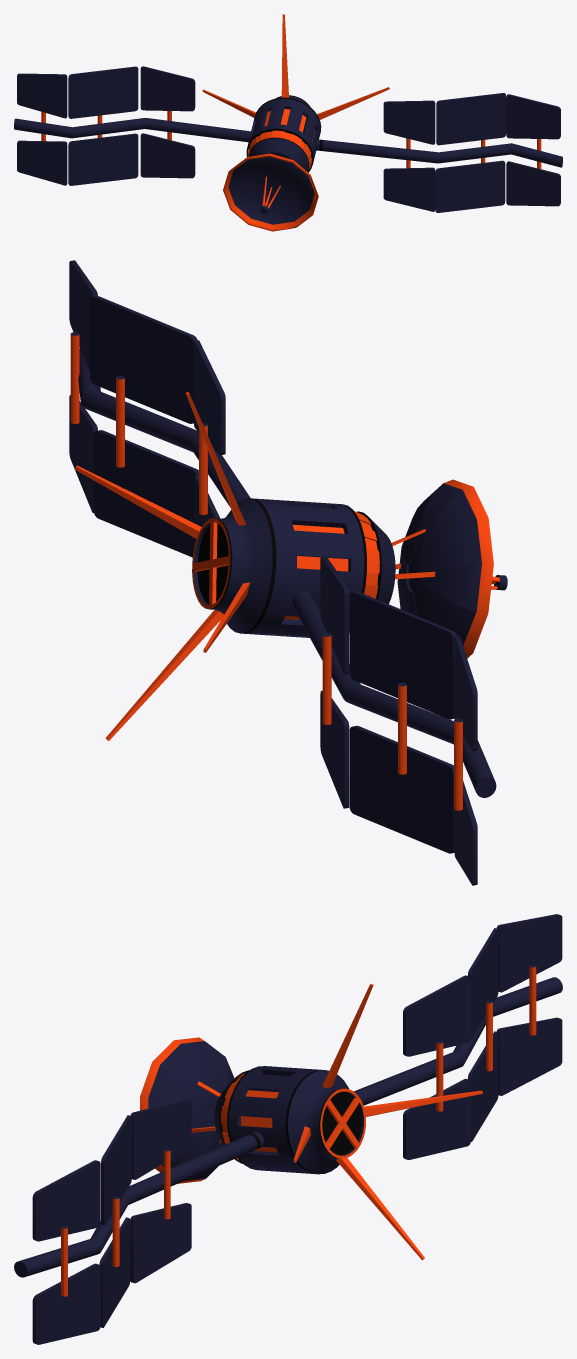
The model's file is Mars_Hurdle_05.fbx.
3 views of the same model, one above another, from view 1: azimuth 30°, elevation 25°; view 2: azimuth 150°, elevation 25°; view 3: azimuth 270°, elevation 25° (orthographic). The views are drawn at different scales.
Parts seen in each view (by area): view 1: Satellite; view 2: Satellite; view 3: Satellite.
Boxes of the visible parts, x1=… form: Satellite: x1=14, y1=14, x2=562, y2=231; Satellite: x1=69, y1=260, x2=507, y2=885; Satellite: x1=14, y1=914, x2=562, y2=1344.
Bounding box in the file's own units: 1013 × 427 × 822.
